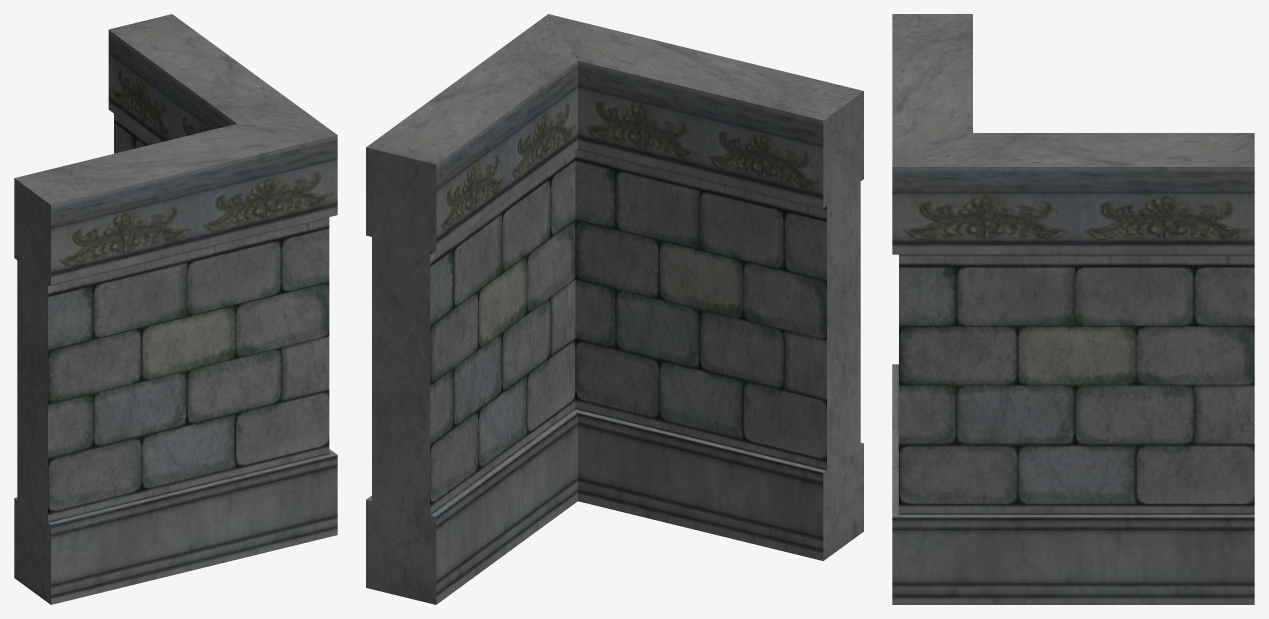
Rendered from wall_small_corner_01.glb.
3 views of the same model, side by side, from view 1: azimuth 30°, elevation 25°; view 2: azimuth 150°, elevation 25°; view 3: azimuth 270°, elevation 25° (orthographic). The views are drawn at different scales.
Visible parts, largest first — view 1: wall_small_corner_01; view 2: wall_small_corner_01; view 3: wall_small_corner_01.
Part boxes in pixels (left/top/right/bottom): wall_small_corner_01: left=14, top=14, right=337, bottom=604; wall_small_corner_01: left=366, top=14, right=863, bottom=604; wall_small_corner_01: left=892, top=14, right=1254, bottom=604.
Bounding box in the file's own units: 2.25 × 3 × 2.25.
1 material, 1 textured.
